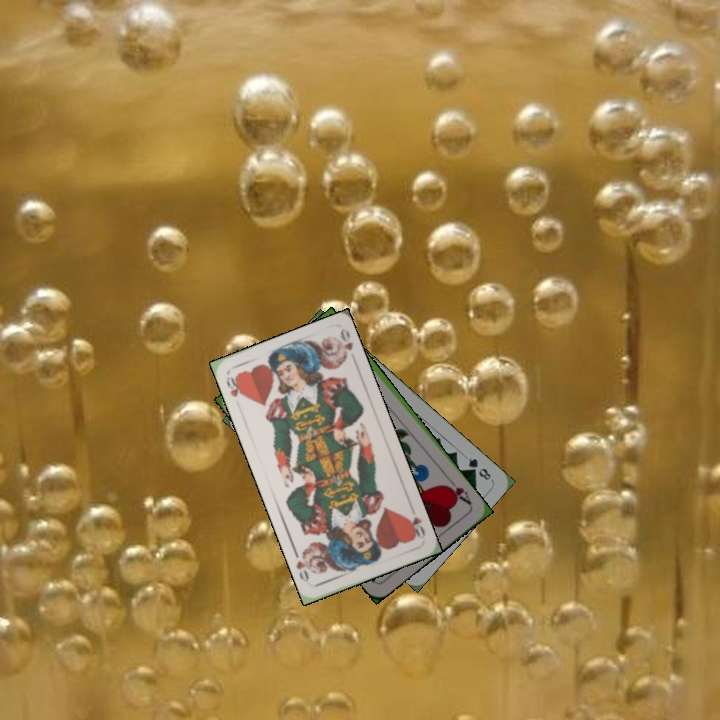G8: (464, 454, 494, 483)
HA: (441, 474, 474, 508)
HO: (403, 502, 428, 541), (222, 372, 248, 401)
